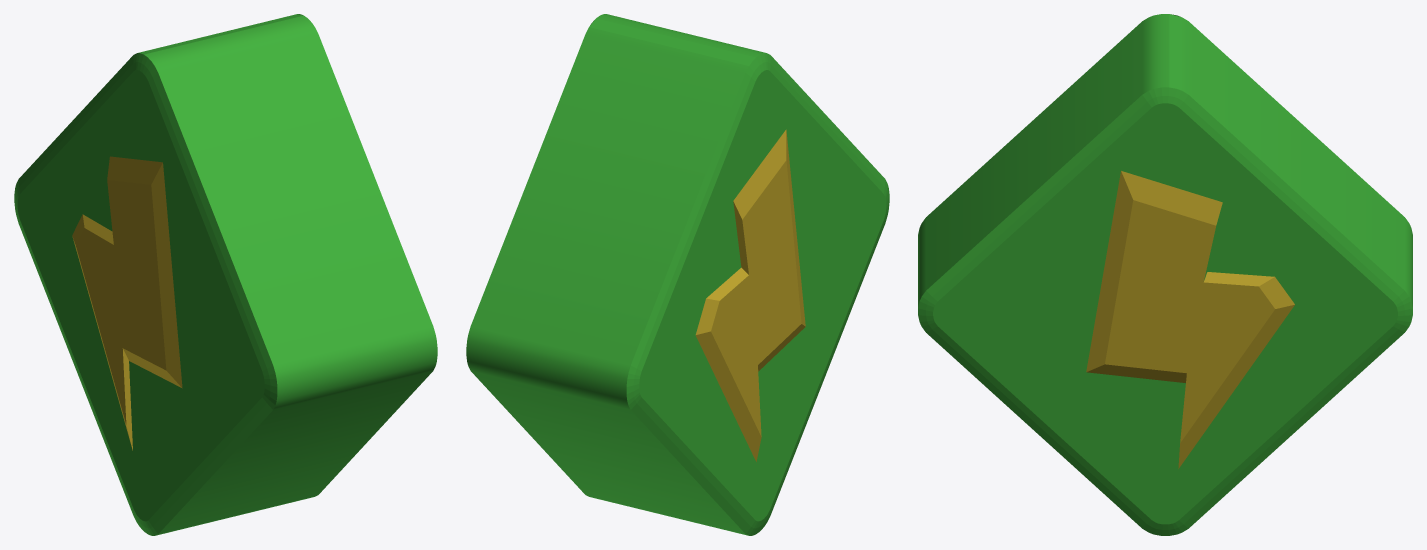
The picture shows the model from 3 angles, left to right: view 1: azimuth 30°, elevation 25°; view 2: azimuth 150°, elevation 25°; view 3: azimuth 270°, elevation 25°; orthographic projection. The views are drawn at different scales.
Visible parts, largest first — view 1: Box002, 对象001; view 2: Box002, 对象001; view 3: Box002, 对象001.
Boxes of the visible parts, x1,y1,x2,y2 form: Box002: [14, 14, 437, 535]; 对象001: [72, 156, 182, 450]; Box002: [466, 14, 889, 535]; 对象001: [695, 129, 805, 461]; Box002: [918, 14, 1412, 535]; 对象001: [1086, 171, 1294, 468].
Bounding box in the file's own units: 14.93 × 37.14 × 37.14.
